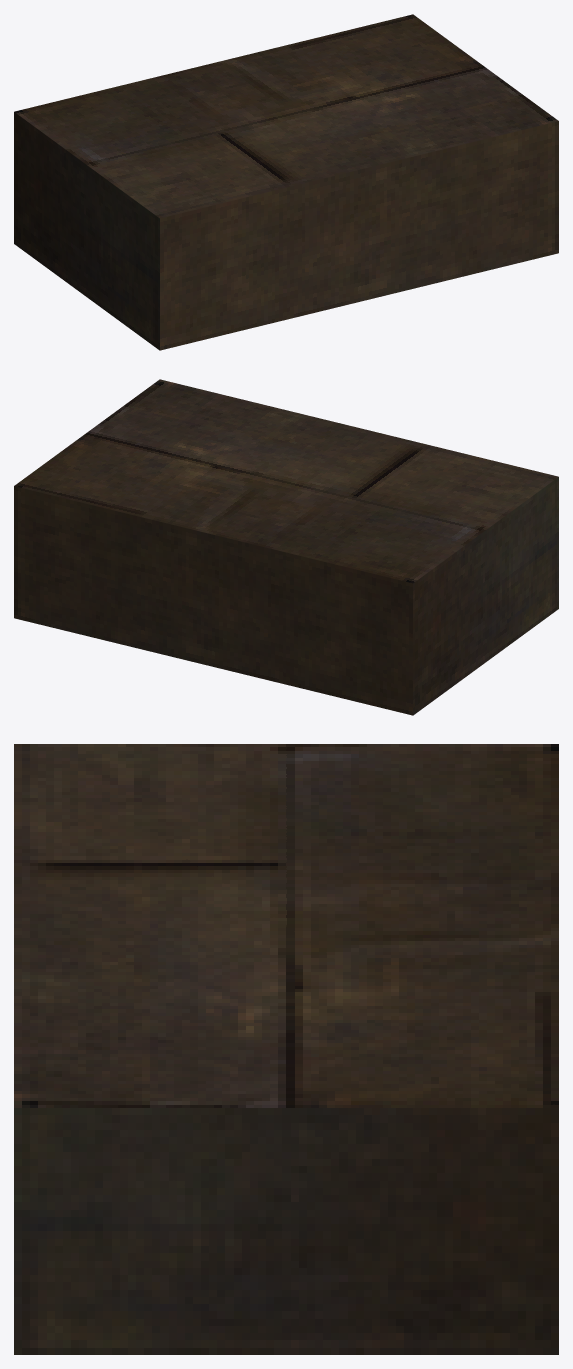
The model's file is cardboard_box_2.glb.
The picture shows the model from 3 angles, top to bottom: view 1: azimuth 30°, elevation 25°; view 2: azimuth 150°, elevation 25°; view 3: azimuth 270°, elevation 25°; orthographic projection. The views are drawn at different scales.
Visible parts, largest first — view 1: cardboard_box_2; view 2: cardboard_box_2; view 3: cardboard_box_2.
Boxes of the visible parts, left/top/right/bottom form: cardboard_box_2: left=14, top=14, right=558, bottom=350; cardboard_box_2: left=14, top=379, right=558, bottom=715; cardboard_box_2: left=14, top=744, right=558, bottom=1354.
Size of the model in its own units: 0.395 by 0.125 by 0.25.
Materials: 1 (1 with a texture image).
